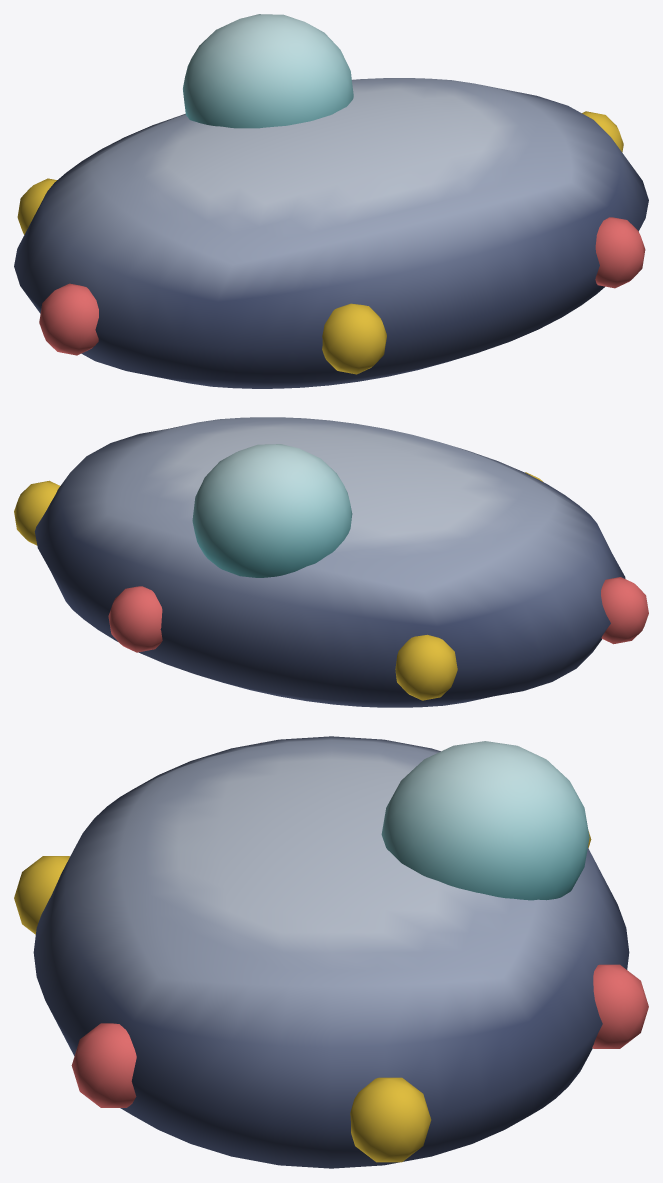
File: pet_mount_ufo.fbx
3 views of the same model, one above another, from view 1: azimuth 30°, elevation 25°; view 2: azimuth 150°, elevation 25°; view 3: azimuth 270°, elevation 25° (orthographic). The views are drawn at different scales.
Visible parts, largest first — view 1: pet_mount_ufo; view 2: pet_mount_ufo; view 3: pet_mount_ufo.
Boxes of the visible parts, left/top/right/bottom form: pet_mount_ufo: left=14, top=14, right=648, bottom=388; pet_mount_ufo: left=14, top=417, right=648, bottom=707; pet_mount_ufo: left=14, top=736, right=648, bottom=1168.
Bounding box in the file's own units: 3.3 × 1.34 × 2.4.
